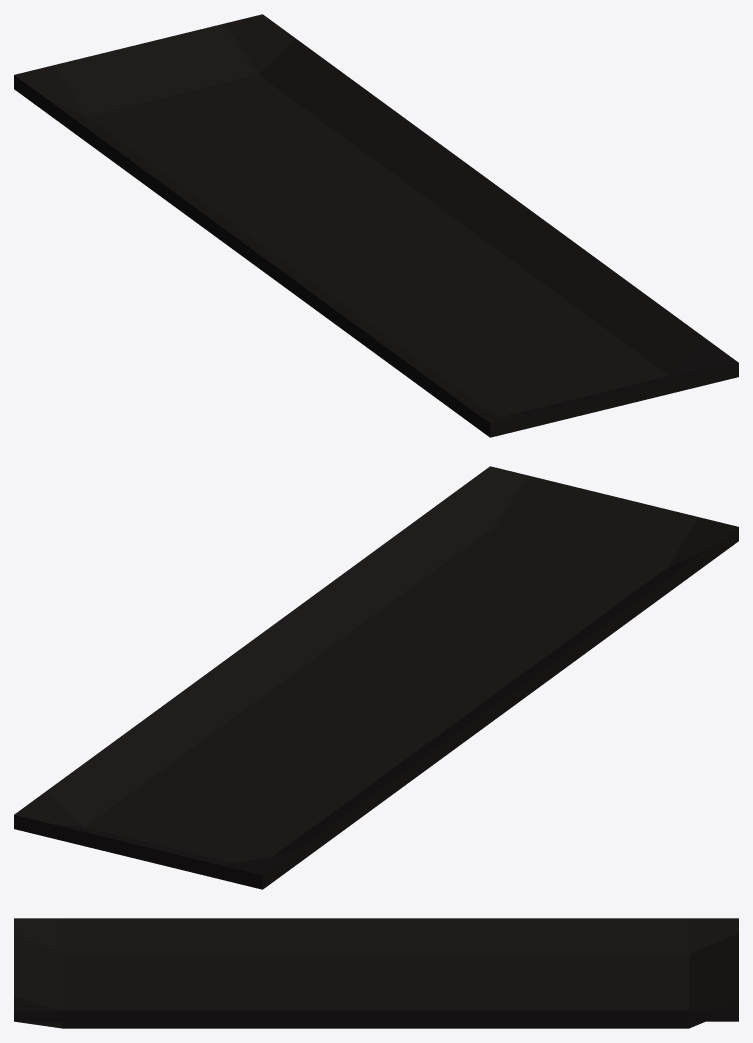
Rendered from sushiServingPlate01.fbx.
3 renders of one model, top to bottom at view 1: azimuth 30°, elevation 25°; view 2: azimuth 150°, elevation 25°; view 3: azimuth 270°, elevation 25°, orthographic. The views are drawn at different scales.
Parts seen in each view (by area): view 1: sushiServingPlate01; view 2: sushiServingPlate01; view 3: sushiServingPlate01.
Boxes of the visible parts, box(x1,y1,x2,y2) form: sushiServingPlate01: box(14, 14, 738, 437); sushiServingPlate01: box(14, 466, 738, 889); sushiServingPlate01: box(14, 918, 738, 1028).
Size of the model in its own units: 20.97 by 3.35 by 69.54.
Materials: 1 (1 with a texture image).
